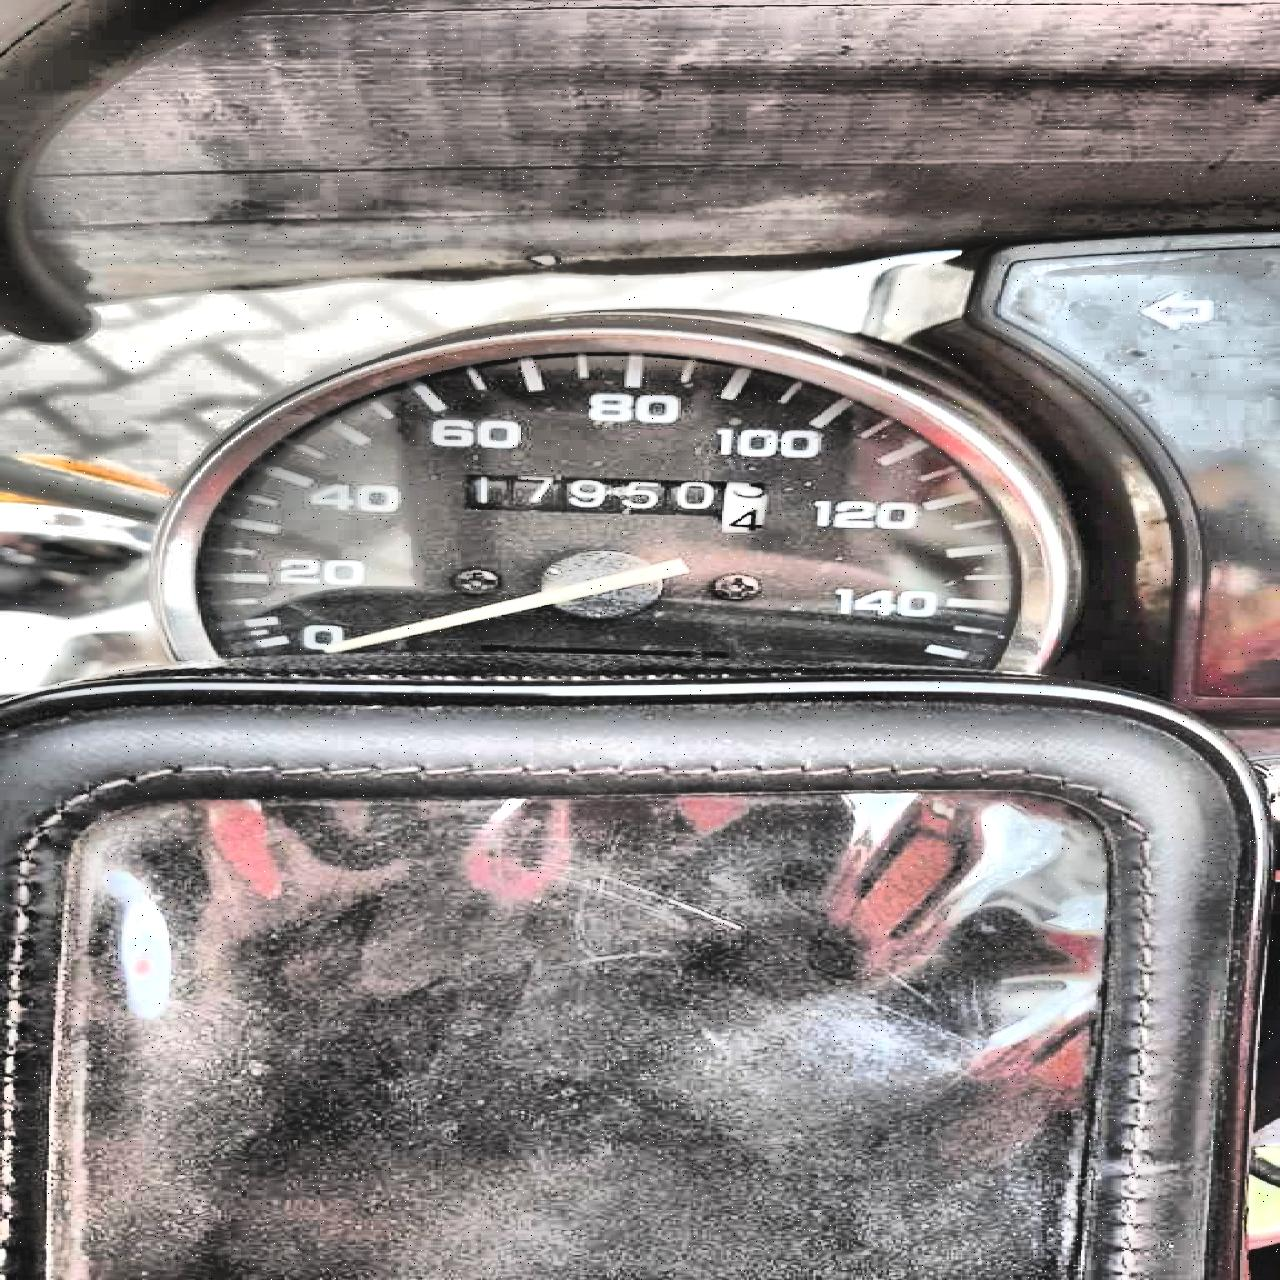0: (674, 481, 714, 509)
1: (471, 474, 496, 506)
3: (727, 481, 764, 499)
4: (724, 506, 764, 530)
5: (618, 478, 658, 508)
7: (511, 474, 551, 503)
9: (565, 477, 606, 508)
odometer: (449, 468, 771, 538)
